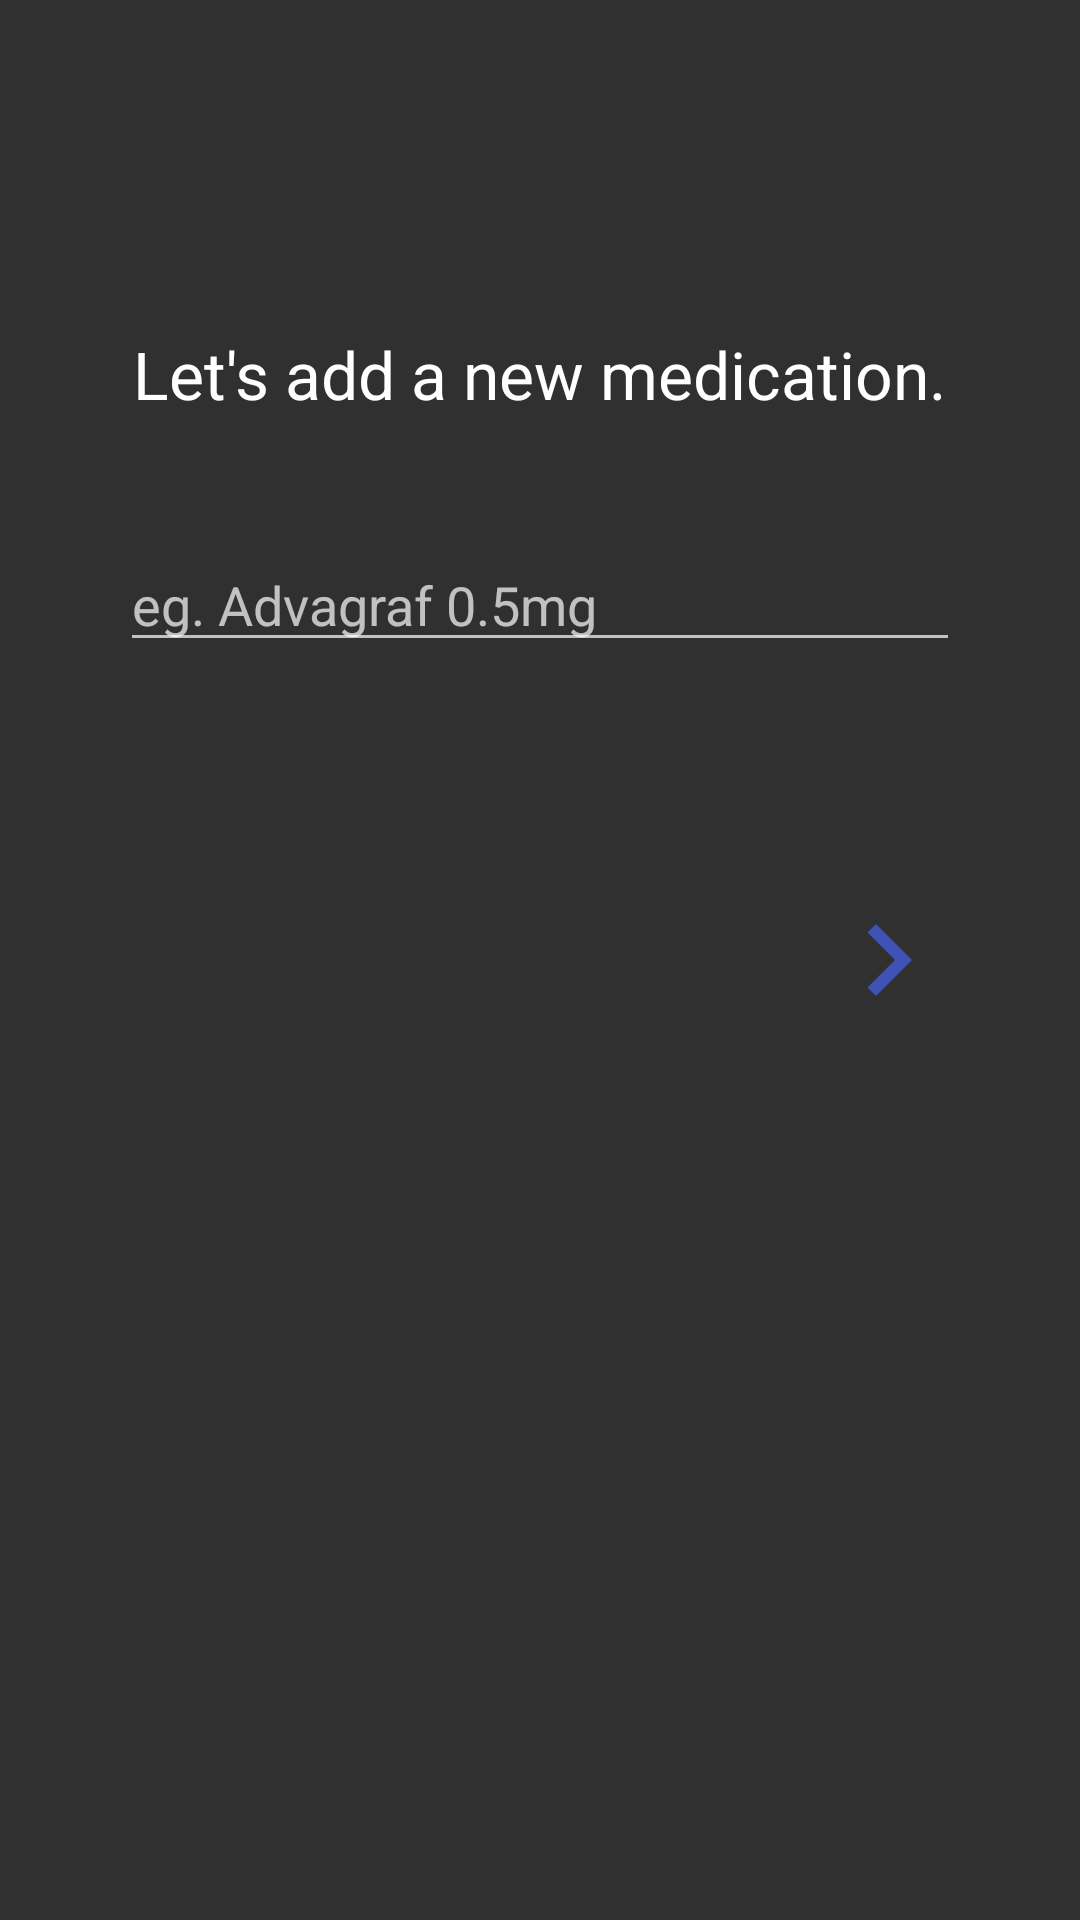

Where to tap for icons on this 1080x1920 app screen, as point (x, y):
Next stage: point (889, 960)
